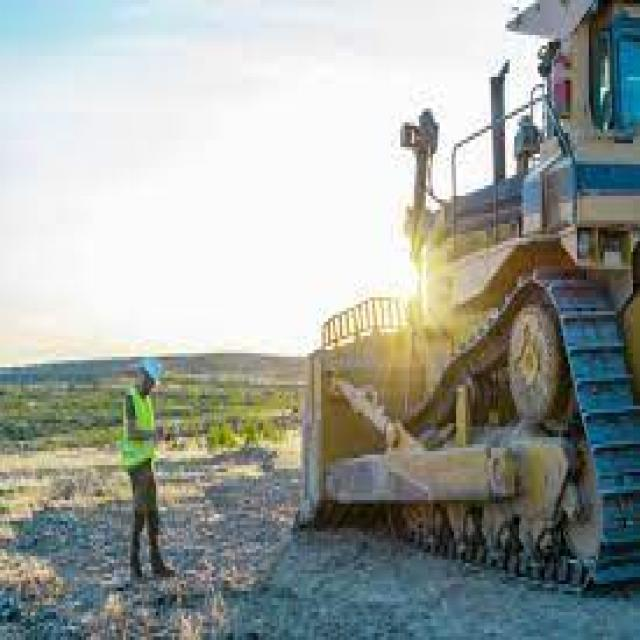Reflective-Jacket: (112, 388, 163, 476)
Safety-Helmet: (130, 353, 166, 392)
